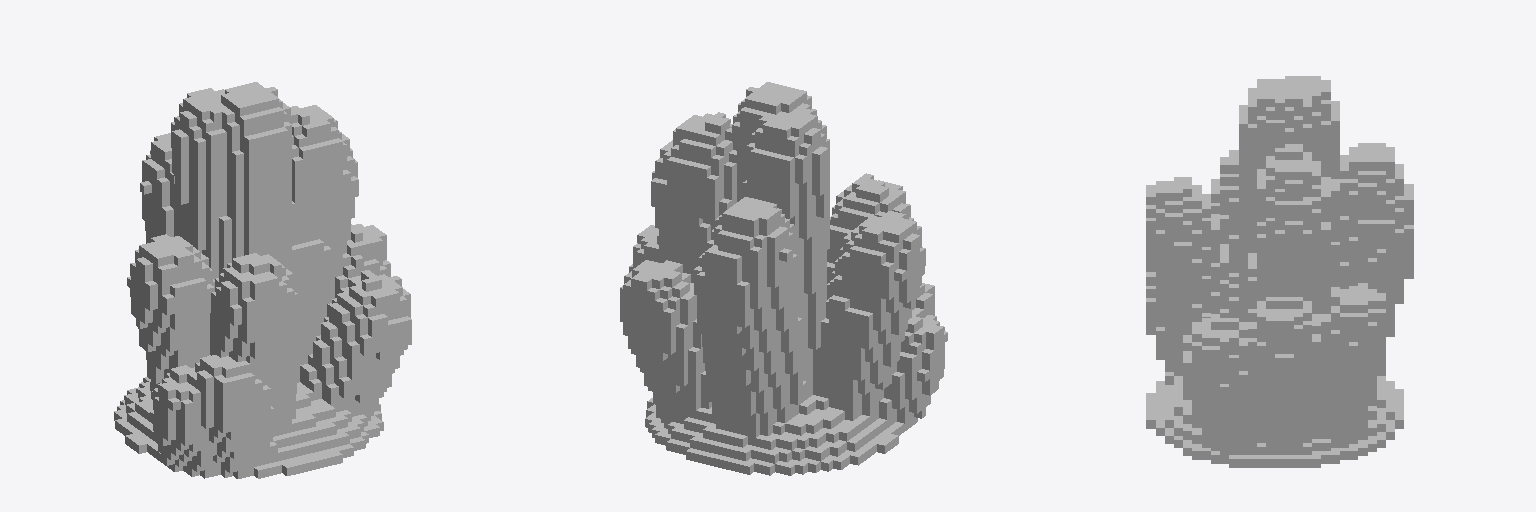
Rendered from VCrystal.obj.
3 renders of one model, left to right at view 1: azimuth 30°, elevation 25°; view 2: azimuth 150°, elevation 25°; view 3: azimuth 270°, elevation 25°, orthographic.
Parts seen in each view (by area): view 1: VCrystal.001; view 2: VCrystal.001; view 3: VCrystal.001.
Boxes of the visible parts, x1=… form: VCrystal.001: x1=114, y1=82, x2=411, y2=478; VCrystal.001: x1=620, y1=82, x2=947, y2=475; VCrystal.001: x1=1146, y1=76, x2=1413, y2=467.
Size of the model in its own units: 1.16 by 1.37 by 1.02.